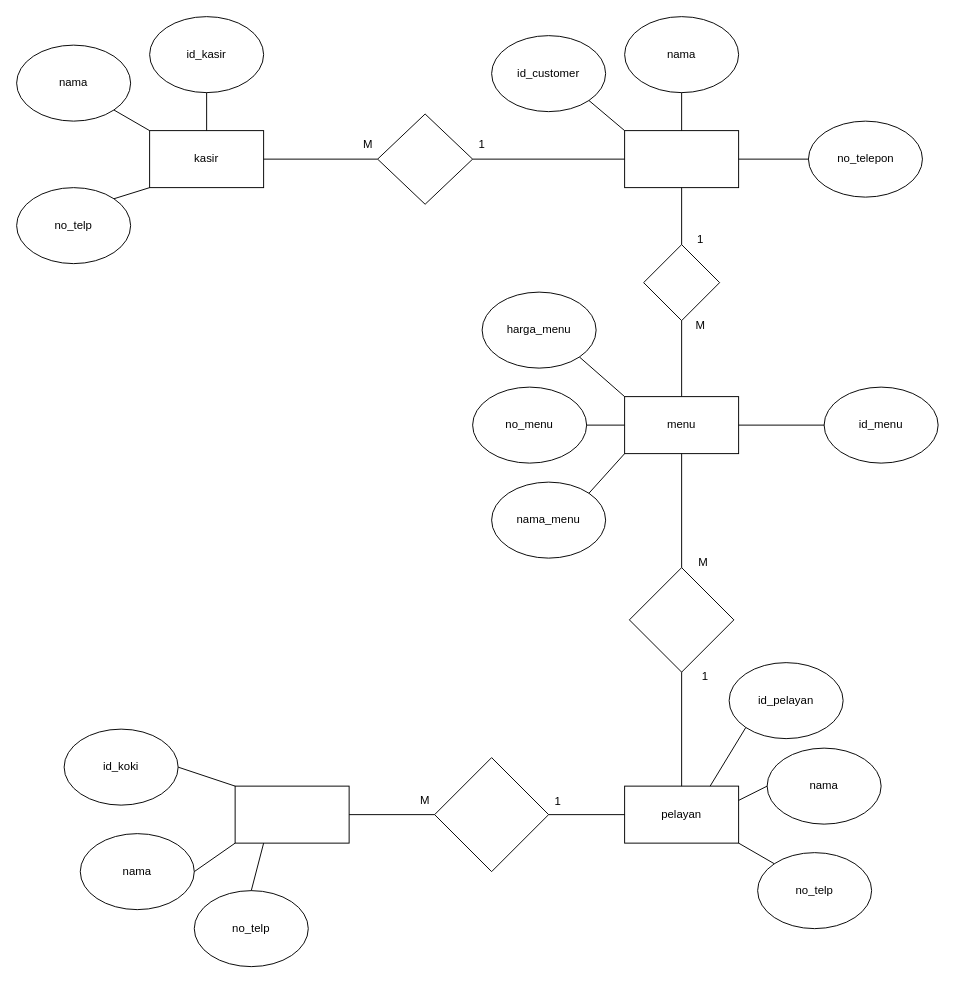
This 955x983 diagram has some shape labels left out. The shapes that lost their labels are listed below. From the top down, each one's centre as x and y in pixels, then its label:
[425,158]: membayar_menu
[681,159]: customer
[681,282]: memesan
[681,619]: dicatat
[291,814]: koki
[491,814]: memberikan_menu
